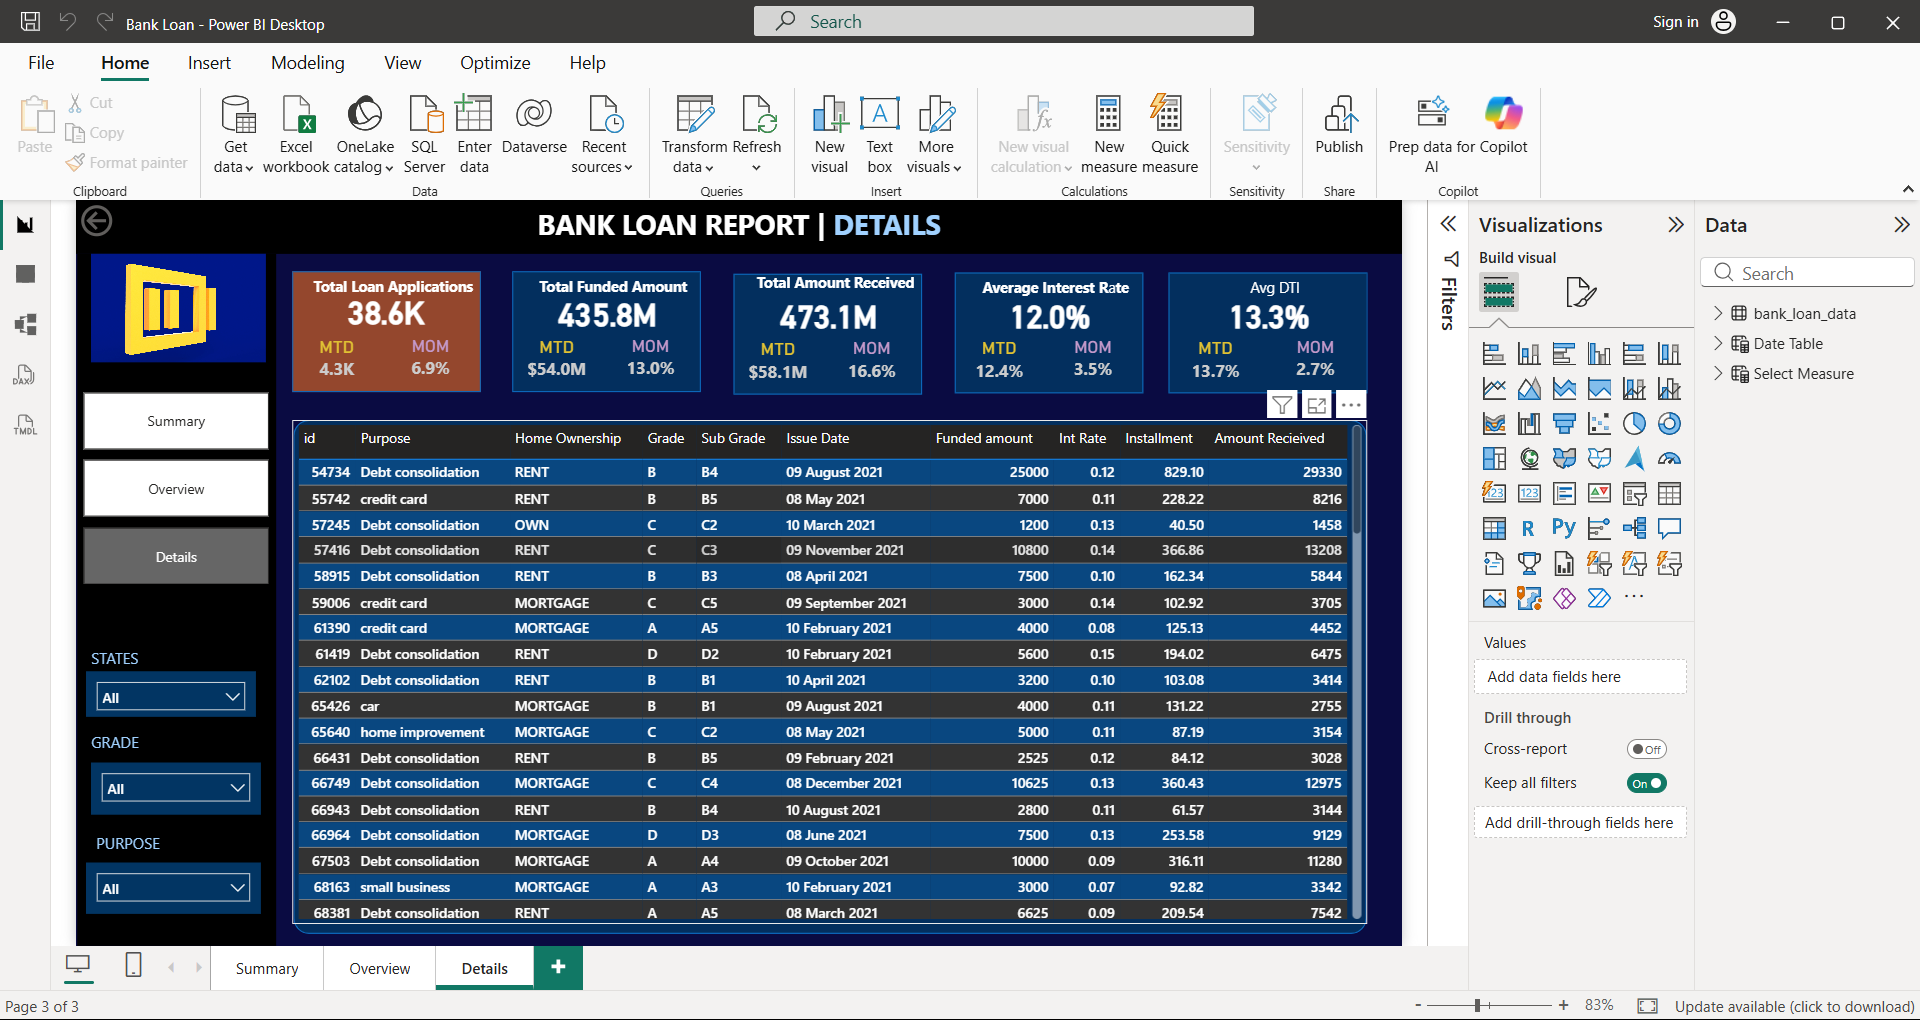

Layout of this report page (visuals, bound fields, positions):
{"tool":"powerbi","page":{"name":"Details","canvas":[1280,720],"ordinal":2},"visuals":[{"type":"shape","box":[0,0,1280.3,52.1],"z":0},{"type":"shape","box":[208.6,68.6,182,116.6],"z":0,"group":"g1"},{"type":"shape","box":[421.6,68.6,182,116.6],"z":0,"group":"g2"},{"type":"shape","box":[847.7,70,182,116.6],"z":0,"group":"g4"},{"type":"shape","box":[1053.9,70,192.3,116.6],"z":0,"group":"g5"},{"type":"shape","box":[634.7,71.4,182,116.6],"z":0,"group":"g3"},{"type":"shape","box":[1.4,52.1,192.1,668.3],"z":1000},{"type":"card","fields":{"Values":["bank_loan_data.Total Loan Applications"]},"box":[234.2,75.5,130.8,63.1],"z":1000,"group":"g1"},{"type":"card","fields":{"Values":["bank_loan_data.TOTAL FUNDED AMOUNT"]},"box":[442.7,81.5,142.7,54.9],"z":1000,"group":"g2"},{"type":"card","fields":{"Values":["bank_loan_data.AVG INTEREST RATE"]},"box":[868.8,82.9,142.7,54.9],"z":1000,"group":"g4"},{"type":"card","fields":{"Values":["bank_loan_data.Total Funded Amount"]},"box":[1076.2,82.9,150.8,54.9],"z":1000,"group":"g5"},{"type":"card","fields":{"Values":["bank_loan_data.TOTAL RECIEVED AMOUNT"]},"box":[655.8,84.2,142.7,54.9],"z":1000,"group":"g3"},{"type":"textbox","box":[629.1,65.6,208.9,35],"z":2000,"group":"g3"},{"type":"group","id":"g1","title":"Group 1","box":[208.6,68.6,194.9,116.6],"z":2000},{"type":"textbox","box":[208.6,68.6,194.9,38.4],"z":2000,"group":"g1"},{"type":"textbox","box":[421.6,68.6,194.9,38.4],"z":2000,"group":"g2"},{"type":"textbox","box":[847.7,70,194.9,38.4],"z":2000,"group":"g4"},{"type":"textbox","box":[1053.9,70,205.8,38.4],"z":2000,"group":"g5"},{"type":"group","id":"g2","title":"Group 1","box":[421.6,68.6,194.9,116.6],"z":3000},{"type":"card","title":"MTD","fields":{"Values":["bank_loan_data.MTD LOAN APPLICATIONS"]},"box":[208.6,131.7,85.9,45.3],"z":3000,"group":"g1"},{"type":"card","title":"MTD","fields":{"Values":["bank_loan_data.MTD FUNDED AMOUNT"]},"box":[421.6,131.7,85.9,45.3],"z":3000,"group":"g2"},{"type":"card","title":"MTD","fields":{"Values":["bank_loan_data.MTD AVG INT RATE"]},"box":[847.7,133.1,85.9,45.3],"z":3000,"group":"g4"},{"type":"card","title":"MTD","fields":{"Values":["bank_loan_data.MTD AVG DTI"]},"box":[1053.9,133.1,90.7,45.3],"z":3000,"group":"g5"},{"type":"card","title":"MTD","fields":{"Values":["bank_loan_data.MTD TOTAL Recieved  AMOUNT"]},"box":[634.7,134.5,85.9,45.3],"z":3000,"group":"g3"},{"type":"group","id":"g3","title":"Group 1","box":[629.1,65.6,208.9,122.4],"z":4000},{"type":"card","title":"MOM","fields":{"Values":["bank_loan_data.MOM LOAN APPLICATIONS"]},"box":[299.6,130.3,85.9,45.3],"z":4000,"group":"g1"},{"type":"card","title":"MOM","fields":{"Values":["bank_loan_data.MOM FUNDED AMOUNT"]},"box":[512.6,130.3,85.9,45.3],"z":4000,"group":"g2"},{"type":"card","title":"MOM","fields":{"Values":["bank_loan_data.MOM AVG INT T"]},"box":[938.7,131.7,85.9,45.3],"z":4000,"group":"g4"},{"type":"card","title":"MOM","fields":{"Values":["bank_loan_data.MOM AVG DTI"]},"box":[1150,131.7,90.7,45.3],"z":4000,"group":"g5"},{"type":"card","title":"MOM","fields":{"Values":["bank_loan_data.MOM received AMOUNT"]},"box":[725.7,133.1,85.9,45.3],"z":4000,"group":"g3"},{"type":"group","id":"g4","title":"Group 1","box":[847.7,70,194.9,116.6],"z":5000},{"type":"group","id":"g5","title":"Group 1","box":[1053.9,70,205.8,116.6],"z":6000},{"type":"actionButton","box":[0,0,100,40],"z":7000},{"type":"slicer","fields":{"Values":["bank_loan_data.address_state"]},"box":[9.6,455,164,43.7],"z":8000},{"type":"textbox","box":[9.6,427.7,87.4,49.2],"z":9000},{"type":"textbox","box":[9.7,507.9,103.8,45.8],"z":10000},{"type":"shape","box":[210.4,211.8,1035.7,496],"z":11000},{"type":"slicer","fields":{"Values":["bank_loan_data.grade"]},"box":[15,542.4,164,50.6],"z":12000},{"type":"slicer","fields":{"Values":["bank_loan_data.purpose"]},"box":[9.6,639.5,168.8,49.4],"z":13000},{"type":"textbox","box":[14.5,605.6,85.7,49.5],"z":14000},{"type":"tableEx","fields":{"Values":["bank_loan_data.id","bank_loan_data.purpose","bank_loan_data.home_ownership","bank_loan_data.grade","bank_loan_data.sub_grade","bank_loan_data.issue_date","bank_loan_data.Total funded amount","Sum(bank_loan_data.int_rate)","Sum(bank_loan_data.installment)","bank_loan_data.Total Received Amount"]},"box":[209.9,112.2,1037.5,486.2],"z":15000},{"type":"pageNavigator","box":[7.2,185.8,179.8,187],"z":16000},{"type":"textbox","box":[440.5,0,481.6,52.1],"z":17000},{"type":"image","box":[14.5,51.9,168.9,105],"z":18000}]}

Visuals, with their boxes on the page's 1280x720 design canvas (x1, y1, x2, y2). These are canvas units, not pixel positions in the 1920x1020 screenshot, which may show the page scaled, cropped or inside an application window:
shape: 0:0:1280:52
shape: 209:69:391:185
shape: 422:69:604:185
shape: 848:70:1030:187
shape: 1054:70:1246:187
shape: 635:71:817:188
shape: 1:52:194:720
card - bank_loan_data.Total Loan Applications: 234:76:365:139
card - bank_loan_data.TOTAL FUNDED AMOUNT: 443:82:585:136
card - bank_loan_data.AVG INTEREST RATE: 869:83:1012:138
card - bank_loan_data.Total Funded Amount: 1076:83:1227:138
card - bank_loan_data.TOTAL RECIEVED AMOUNT: 656:84:798:139
textbox: 629:66:838:101
"Group 1" group: 209:69:404:185
textbox: 209:69:404:107
textbox: 422:69:616:107
textbox: 848:70:1043:108
textbox: 1054:70:1260:108
"Group 1" group: 422:69:616:185
"MTD" card: 209:132:294:177
"MTD" card: 422:132:508:177
"MTD" card: 848:133:934:178
"MTD" card: 1054:133:1145:178
"MTD" card: 635:134:721:180
"Group 1" group: 629:66:838:188
"MOM" card: 300:130:386:176
"MOM" card: 513:130:598:176
"MOM" card: 939:132:1025:177
"MOM" card: 1150:132:1241:177
"MOM" card: 726:133:812:178
"Group 1" group: 848:70:1043:187
"Group 1" group: 1054:70:1260:187
actionButton: 0:0:100:40
slicer - bank_loan_data.address_state: 10:455:174:499
textbox: 10:428:97:477
textbox: 10:508:114:554
shape: 210:212:1246:708
slicer - bank_loan_data.grade: 15:542:179:593
slicer - bank_loan_data.purpose: 10:640:178:689
textbox: 14:606:100:655
tableEx - bank_loan_data.id x bank_loan_data.purpose: 210:112:1247:598
pageNavigator: 7:186:187:373
textbox: 440:0:922:52
image: 14:52:183:157
